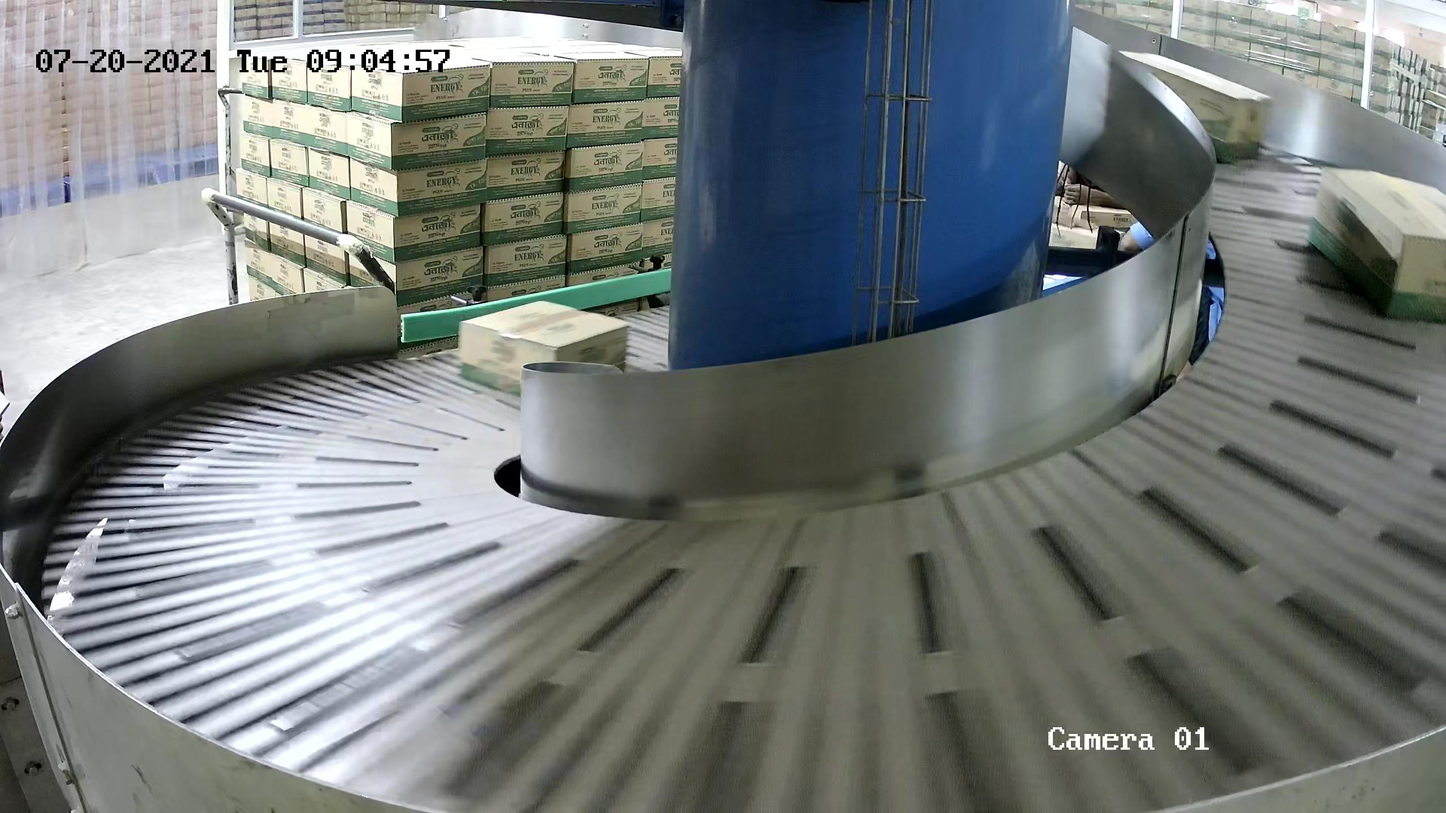Box: (1307, 163, 1446, 325), (1101, 49, 1271, 164), (457, 299, 630, 403)
